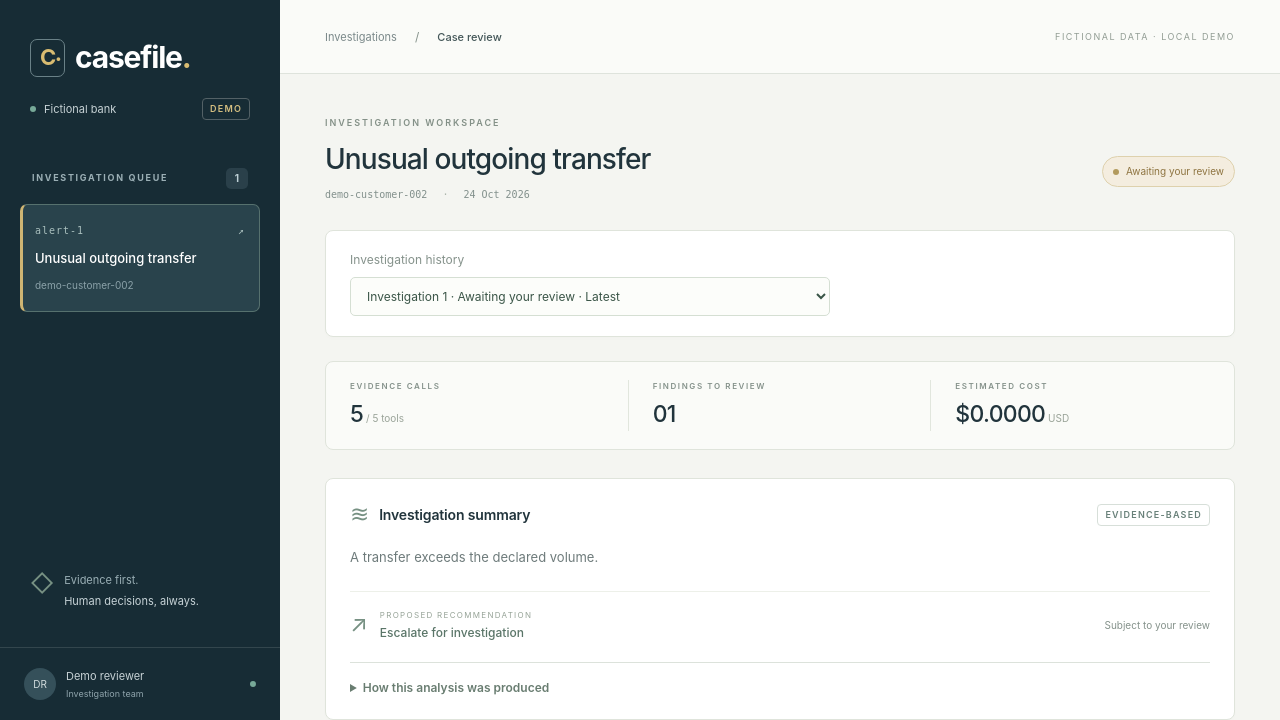
Test: investigation review › distinguishes recorded Jev decisions, demo support scores and template summaries
This screenshot has width=1280, height=720.
Click the heading "How this analysis was produced": (456, 687) 363,680 -> 549,695
(page scrolled)
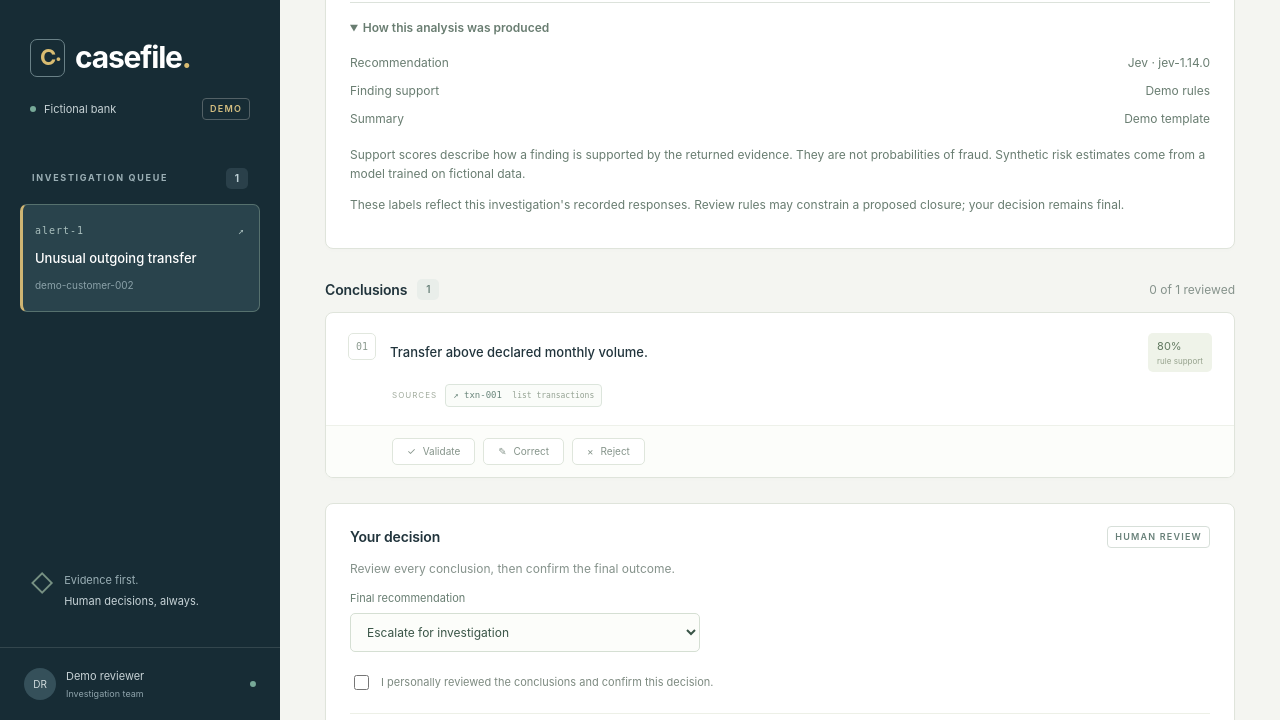
expect the text "rule support" is shown: met, box 1157,355 -> 1203,367
expect the text "Jev · jev-1.14.0" is shown: met, box 1128,54 -> 1210,72
expect the text "Demo template" is shown: met, box 1124,110 -> 1210,128
